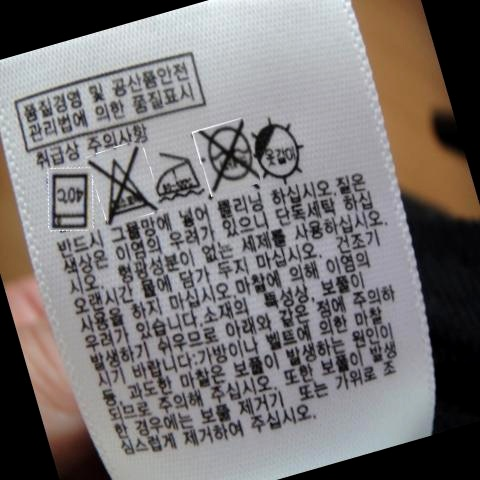40C: (44, 169, 92, 233)
DN_dry_clean: (206, 115, 250, 189)
iron_low: (154, 150, 200, 203)
line_dry_in_shade: (256, 116, 306, 182)
non_chlorine_bleach: (95, 144, 151, 222)
